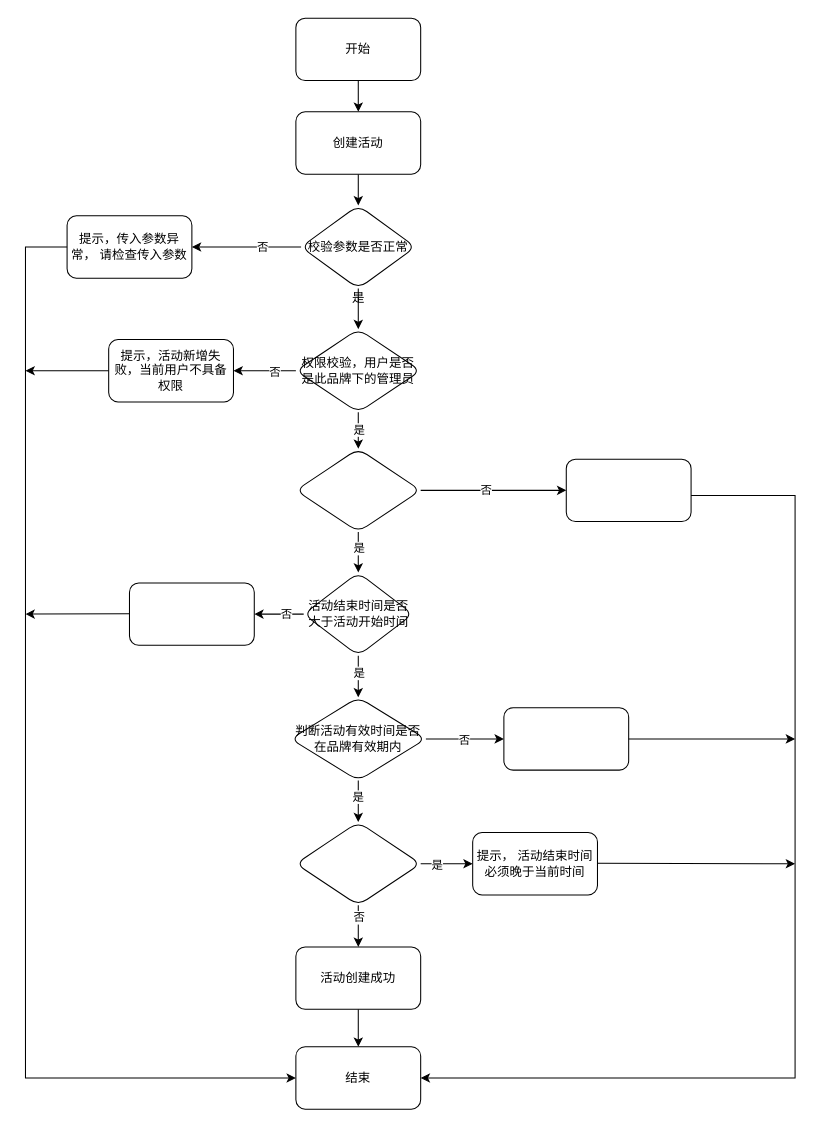
The diagram is 822 pixels wide and 1127 high, and some of its shapes have lost their labels. Here are the shapes that lost their labels. From the top down, the box of each, then its label:
(295, 448, 421, 532): 校验品牌是否有效
(565, 458, 691, 522): 当前品牌已经失效，不能创建活动
(128, 582, 254, 645): 提手， 活动结束时间必须大于开始时间
(503, 707, 629, 770): 提示，活动有效时间必须保持在品牌有效时间内
(295, 821, 421, 905): 判断活动结束时间是否早于当前时间
